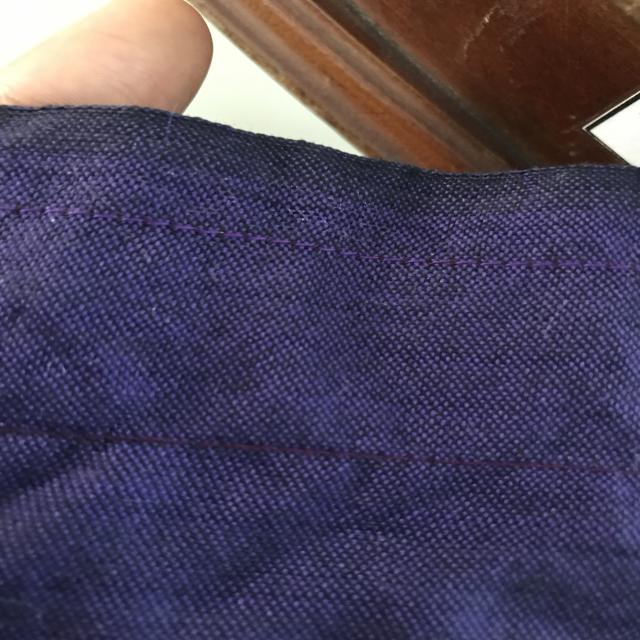good: (200, 213, 352, 273)
